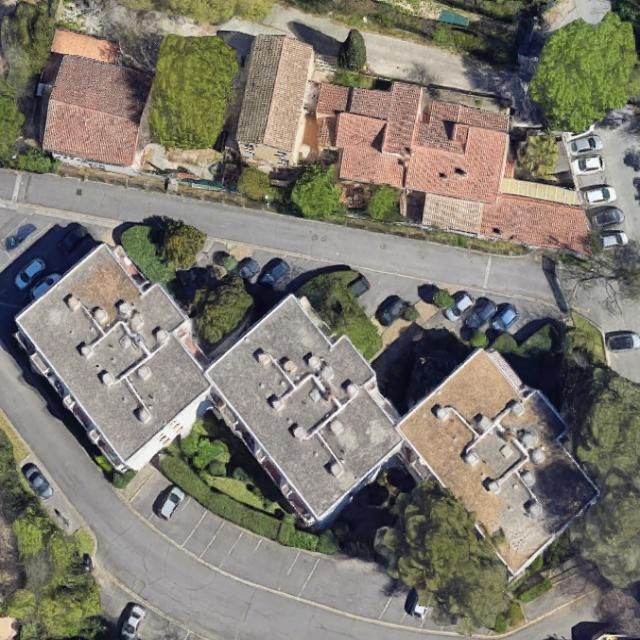immeuble: (0, 228, 242, 480), (186, 284, 430, 532), (381, 336, 620, 576)
maison: (292, 62, 618, 270), (27, 27, 156, 174), (232, 31, 314, 169)
